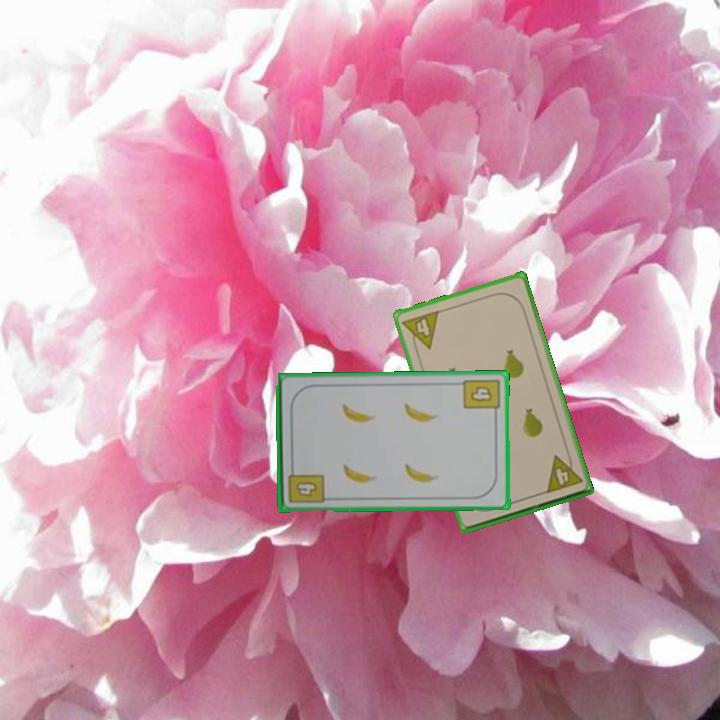4b: (460, 375, 502, 419), (284, 463, 326, 506)
4p: (399, 307, 442, 355), (542, 449, 585, 496)
